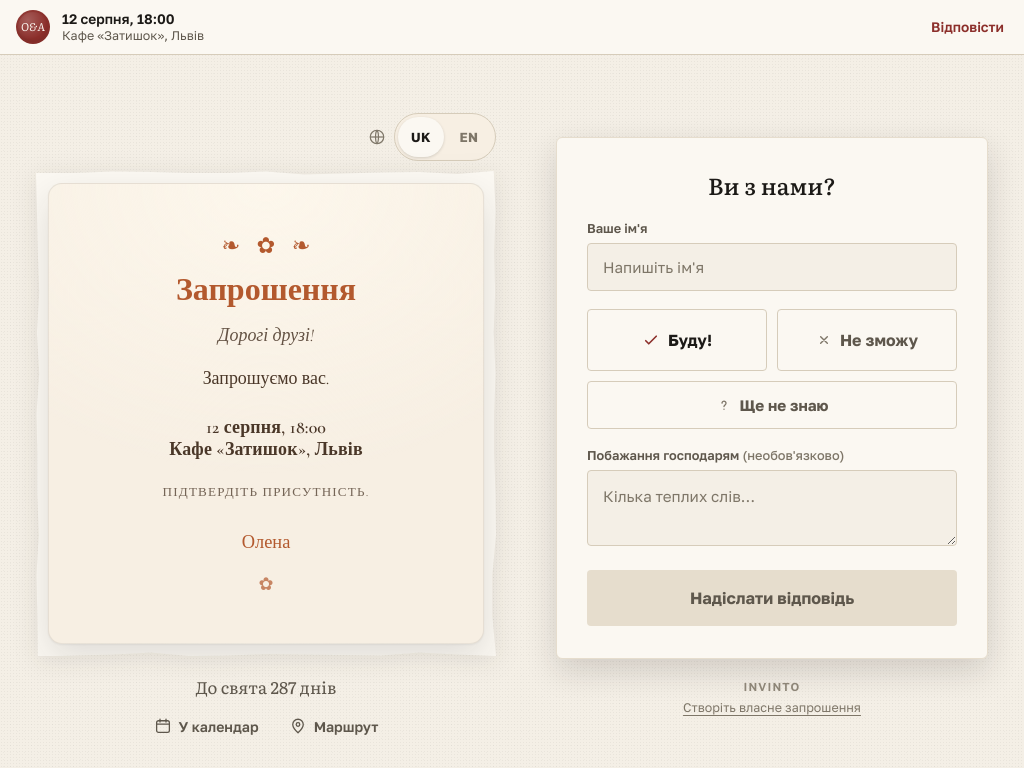
Test: the reply card (adr-019 §5.3) › thanks a maybe quietly, and points at changing the reply
Type "Іван" into the field with placeholder "Напишіть ім'я" at (772, 267), box [587,243,957,291]
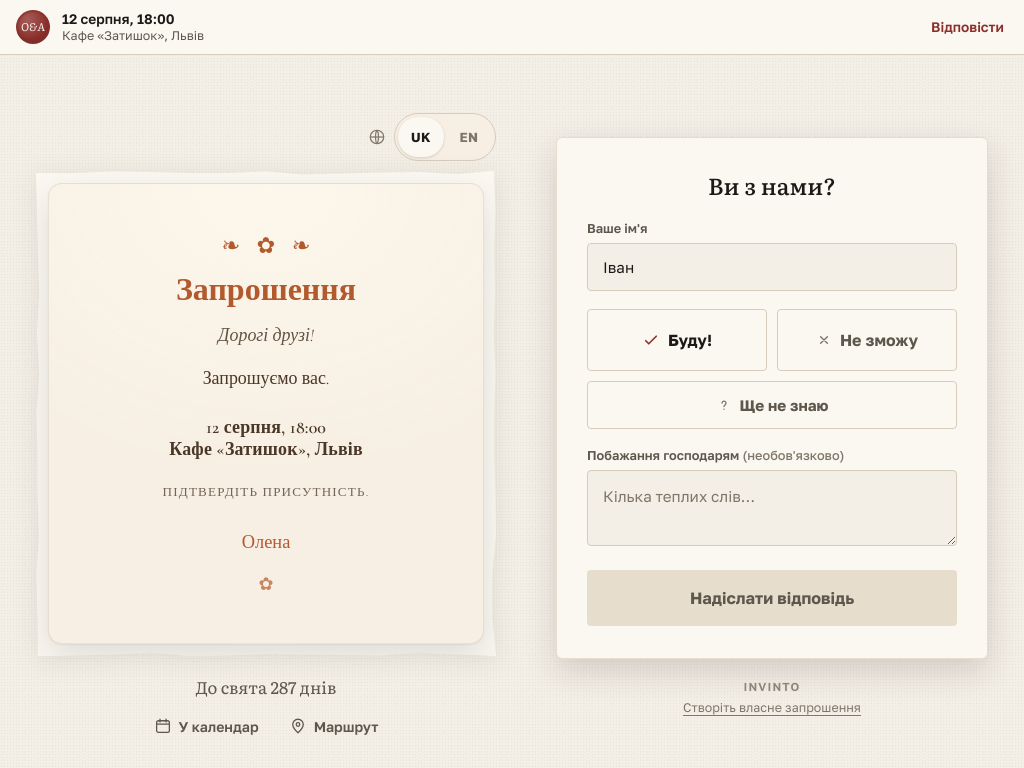
Click the radio button labelled "Ще не знаю" at (772, 405), box [587,381,957,429]
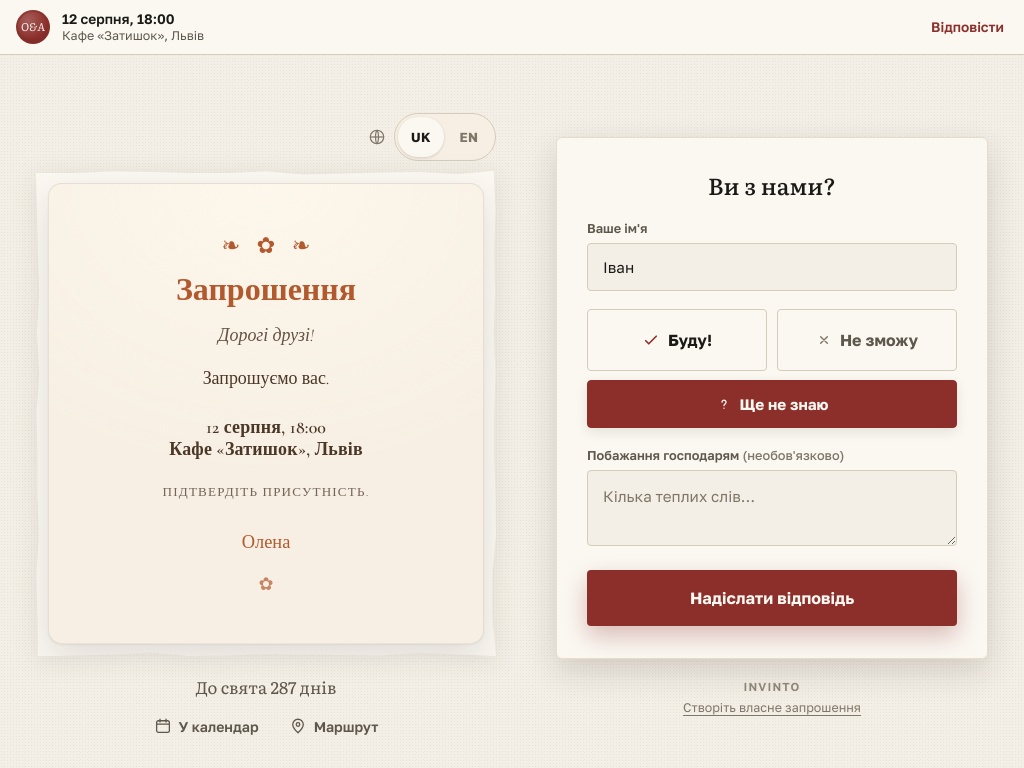
Click the button "Надіслати відповідь" at (772, 598), box [587,570,957,626]
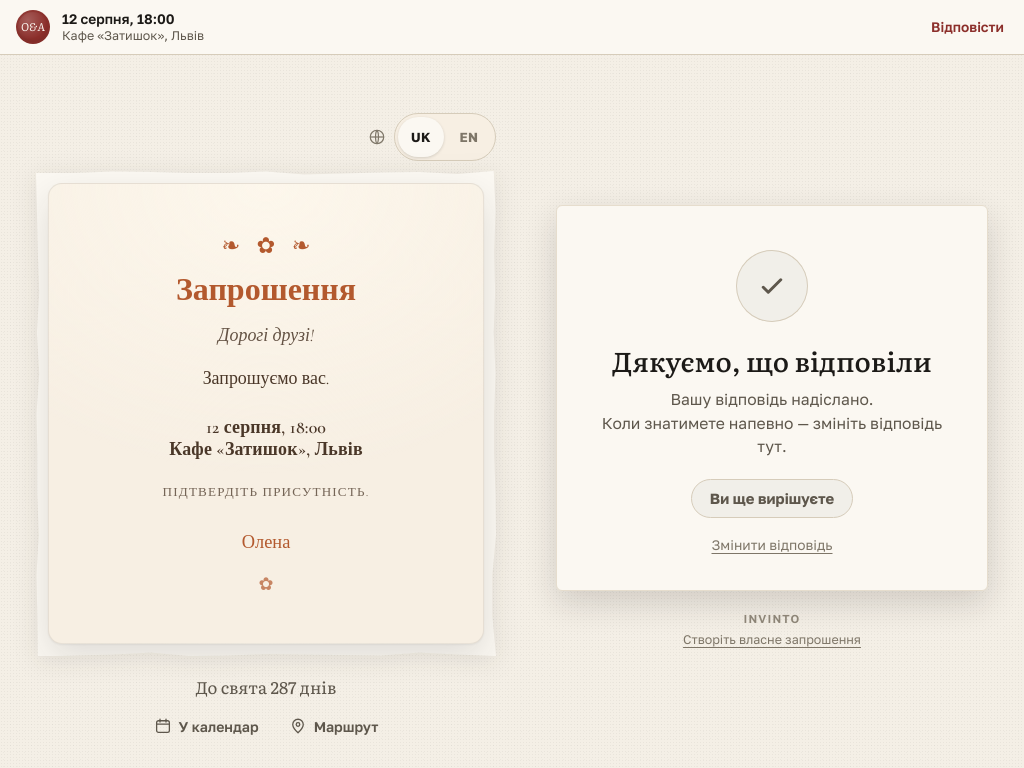
Expected: the heading "Дякуємо, що відповіли" is shown, [597,340,947,380]
Expected: the text "Ви ще вирішуєте" is shown, [691,479,853,518]
Expected: the text "Коли знатимете напевно — змініть відповідь тут." is shown, [602,414,942,455]
